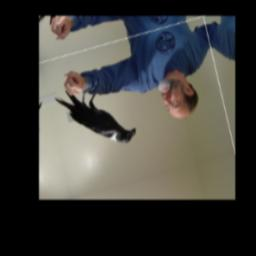Crow: (51, 74, 139, 163)
